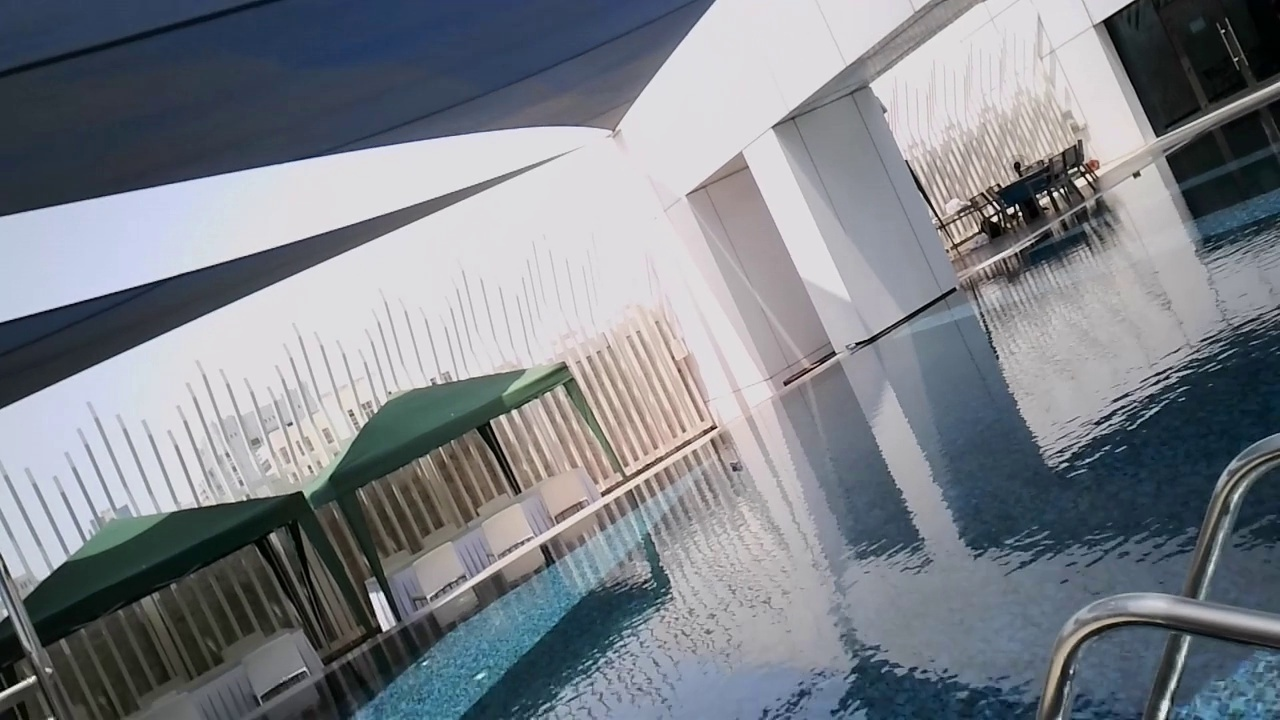debris: (725, 459, 745, 474), (1128, 169, 1141, 180)
